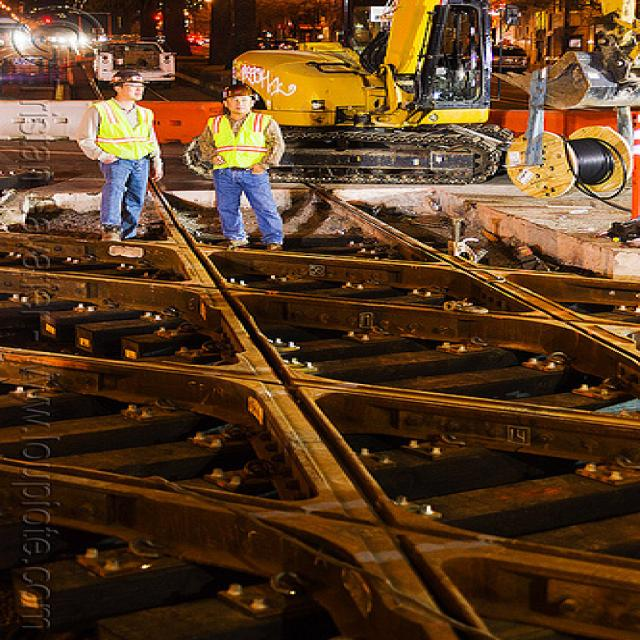Reflective-Jacket: (84, 100, 160, 162), (204, 111, 275, 174)
Safety-Helmet: (104, 67, 154, 87), (218, 84, 262, 102)
